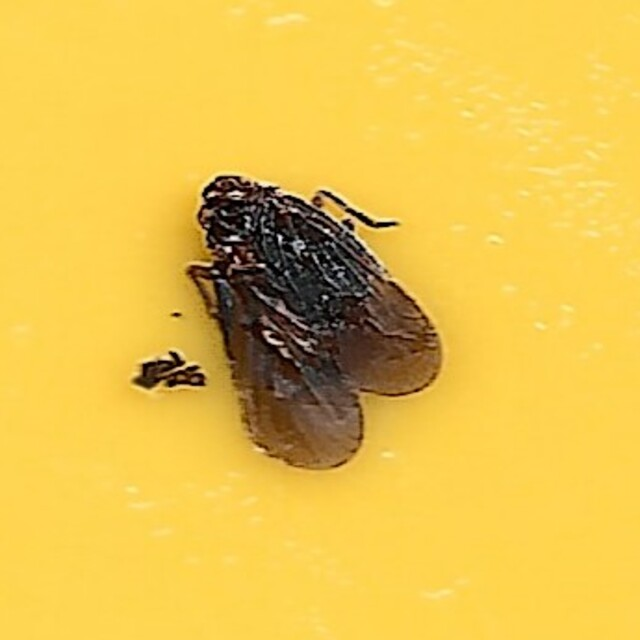Hemiptera: (186, 159, 454, 481)
